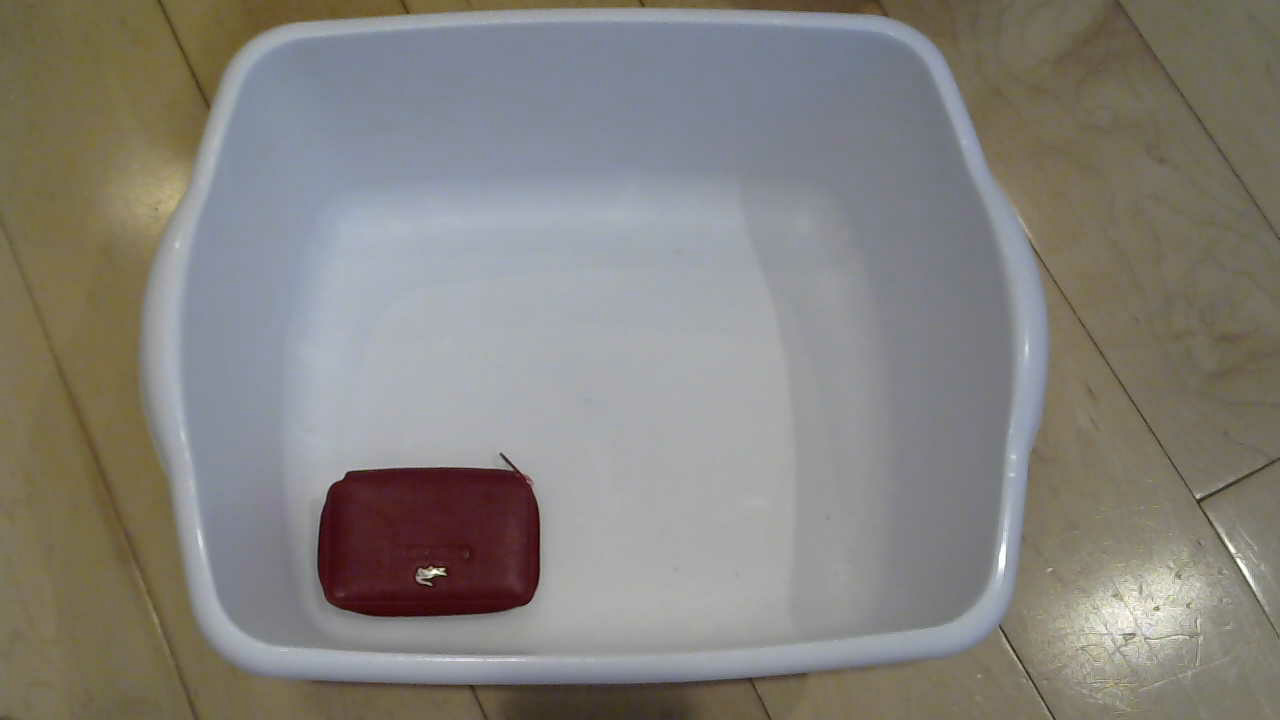wallet: (302, 458, 559, 624)
